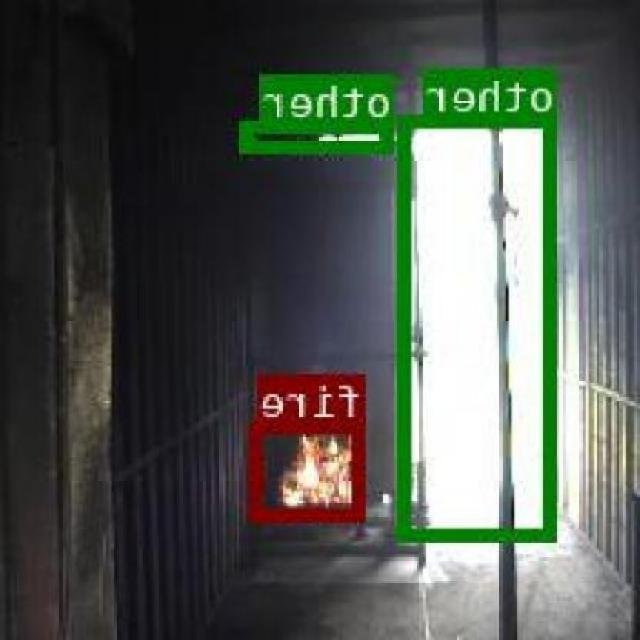Fire: (252, 418, 368, 520)
